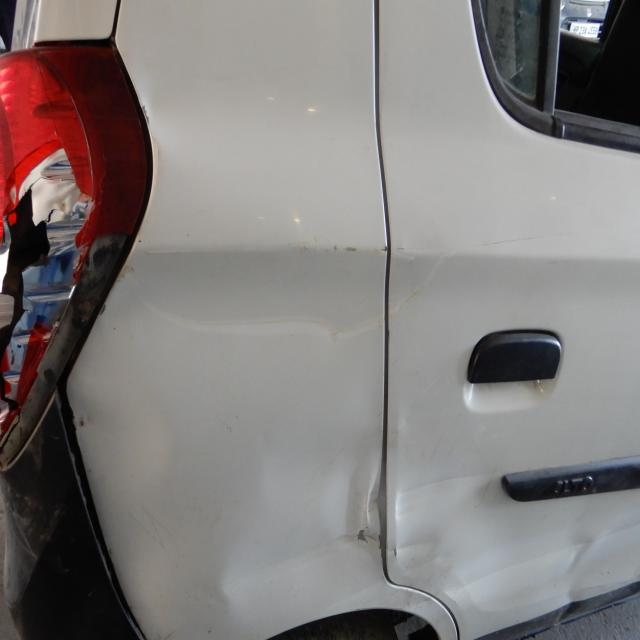damage: (2, 143, 94, 457), (391, 476, 610, 590), (345, 455, 382, 571)
